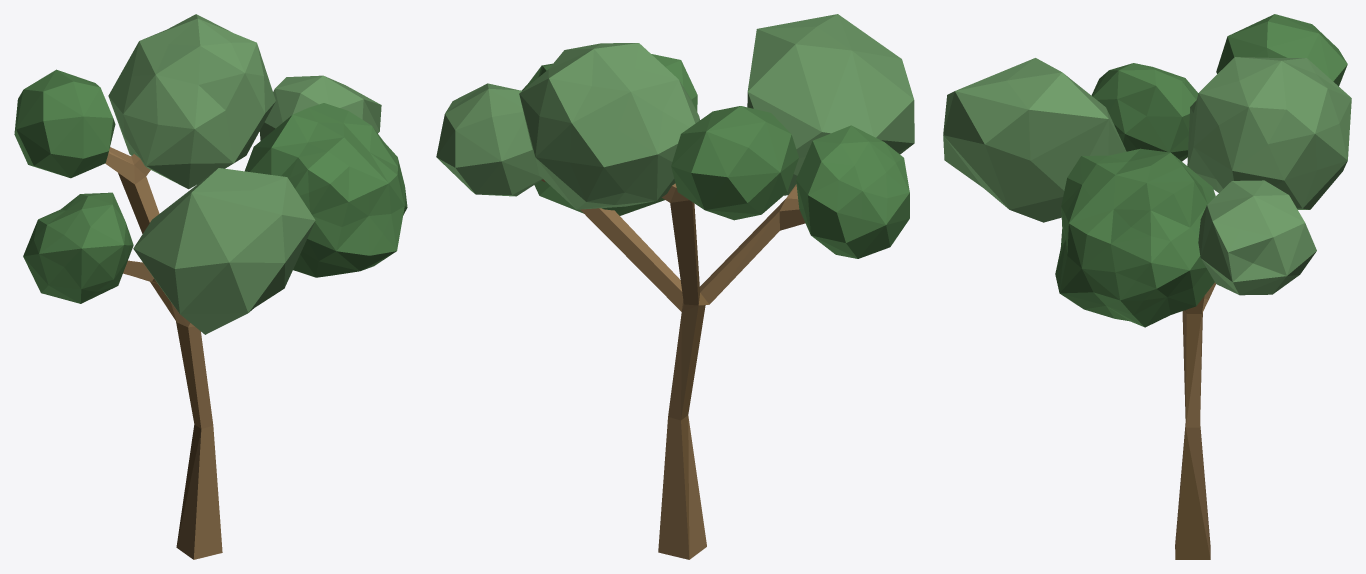
The model's file is Tree_2.glb.
The picture shows the model from 3 angles, left to right: view 1: azimuth 30°, elevation 25°; view 2: azimuth 150°, elevation 25°; view 3: azimuth 270°, elevation 25°; orthographic projection. The views are drawn at different scales.
Parts seen in each view (by area): view 1: Plane; view 2: Plane; view 3: Plane.
Part boxes in pixels (x1,y1,x2,y2): Plane: (14, 14, 407, 559); Plane: (436, 14, 914, 559); Plane: (943, 14, 1351, 559).
Bounding box in the file's own units: 4.51 × 5.48 × 3.96.
